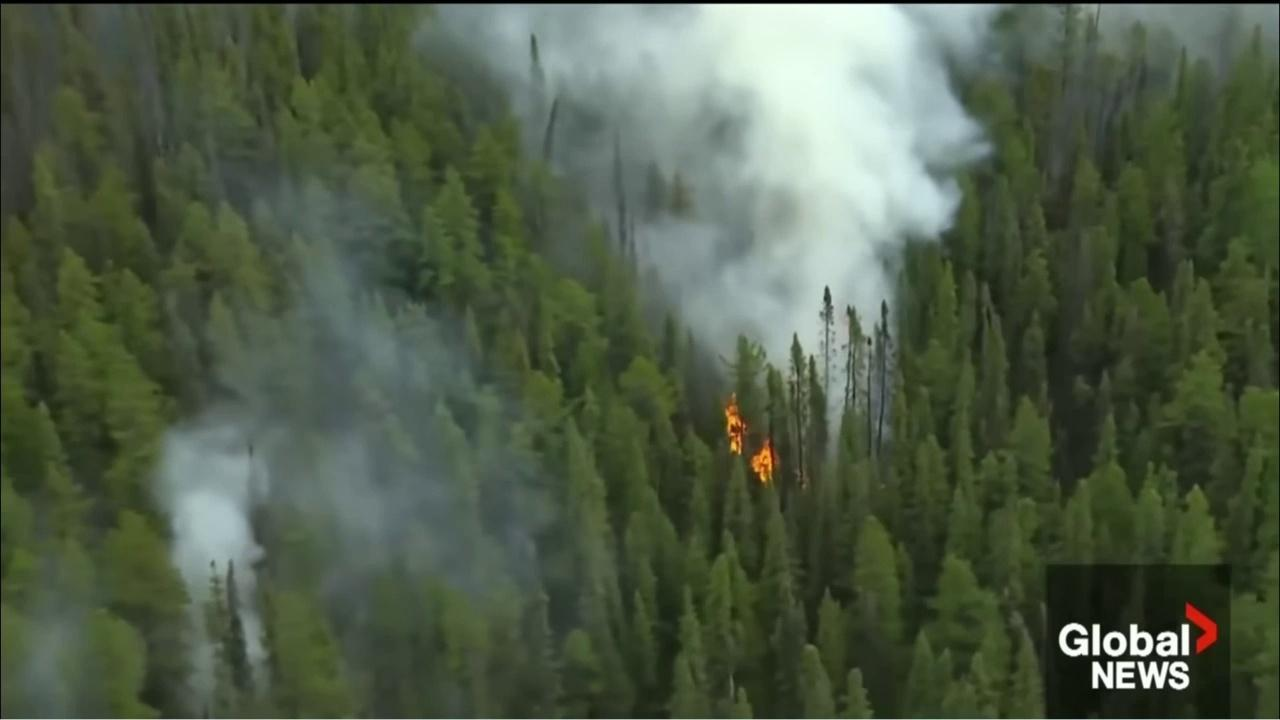fire: (722, 388, 752, 460), (748, 437, 784, 489)
smoke: (402, 4, 1279, 477), (2, 123, 594, 717)
